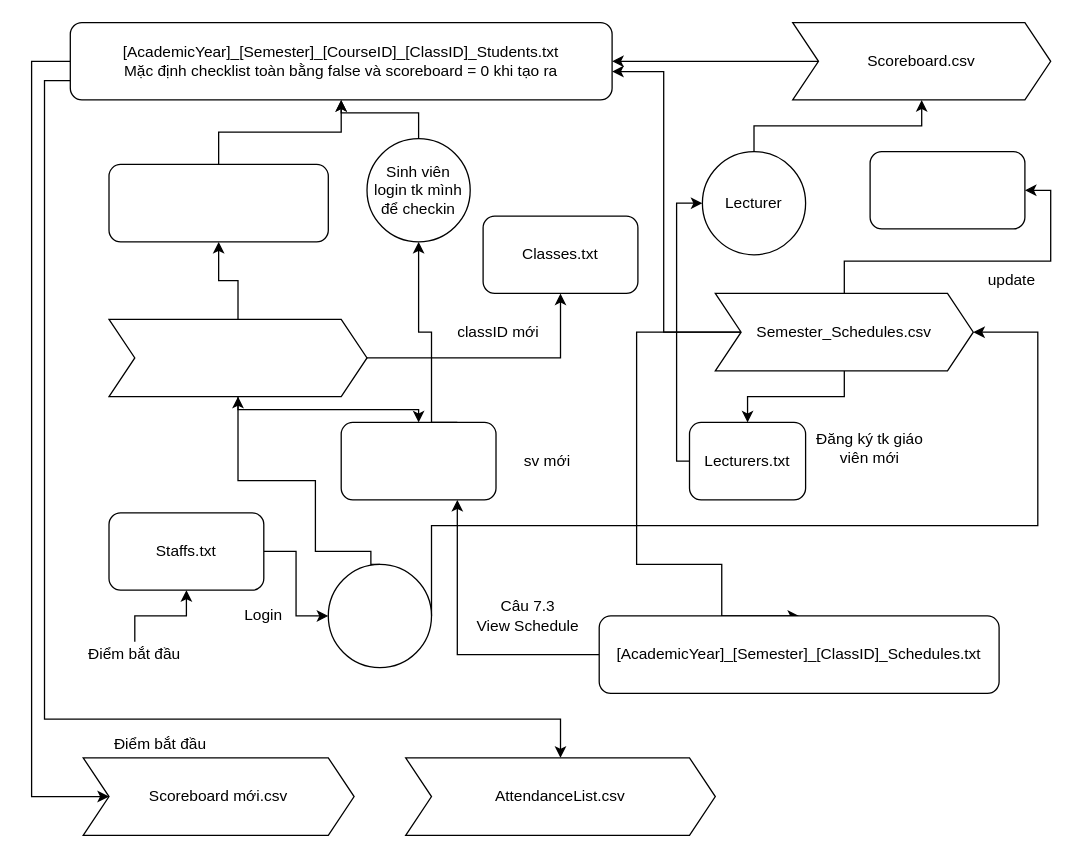
This 1086x858 diagram has some shape labels left out. Each missing label, with the box of its shape:
[ClassID].csv: (108, 318, 367, 397)
[classID]_Students.txt: (108, 163, 328, 242)
Giáo vụ - Staff: (327, 563, 432, 668)
Semesters.txt: (869, 150, 1025, 229)
Students.txt: (340, 421, 496, 500)
